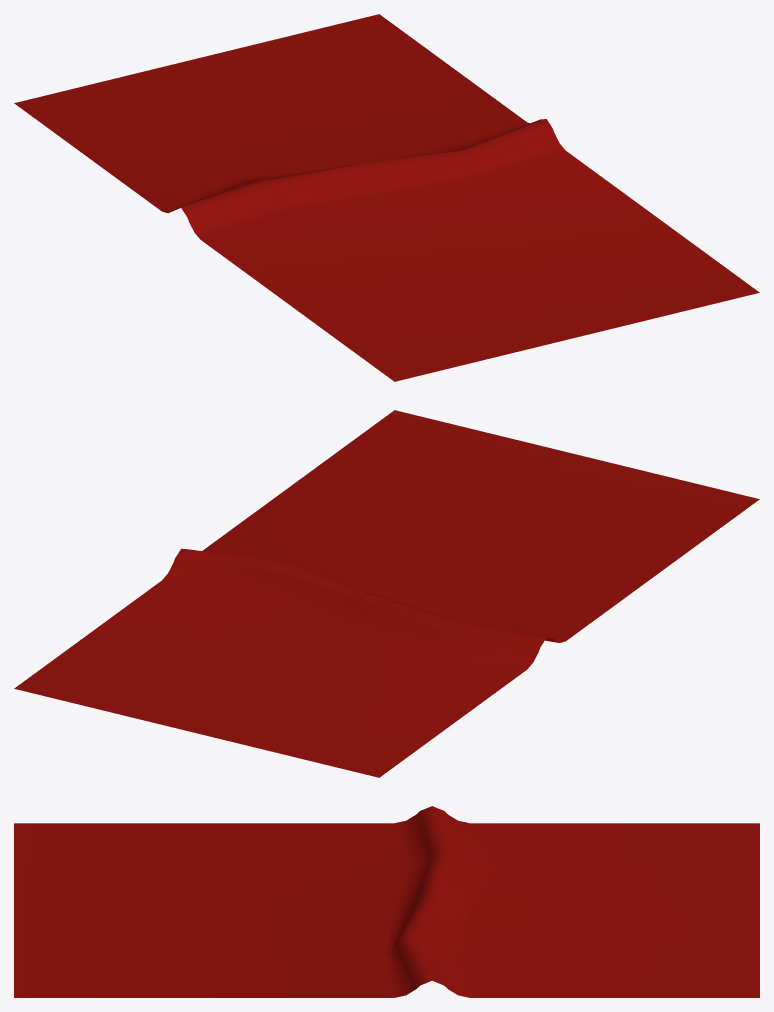
File: carpet_plane_lump_1.obj
3 views of the same model, one above another, from view 1: azimuth 30°, elevation 25°; view 2: azimuth 150°, elevation 25°; view 3: azimuth 270°, elevation 25° (orthographic). The views are drawn at different scales.
Parts seen in each view (by area): view 1: carpet_plane_lump_1_Plane.002; view 2: carpet_plane_lump_1_Plane.002; view 3: carpet_plane_lump_1_Plane.002.
Boxes of the visible parts, bbox=[...] form: carpet_plane_lump_1_Plane.002: bbox=[14, 14, 759, 381]; carpet_plane_lump_1_Plane.002: bbox=[14, 410, 759, 777]; carpet_plane_lump_1_Plane.002: bbox=[14, 806, 759, 997].
Bounding box in the file's own units: 2 × 0.0919 × 3.61.
